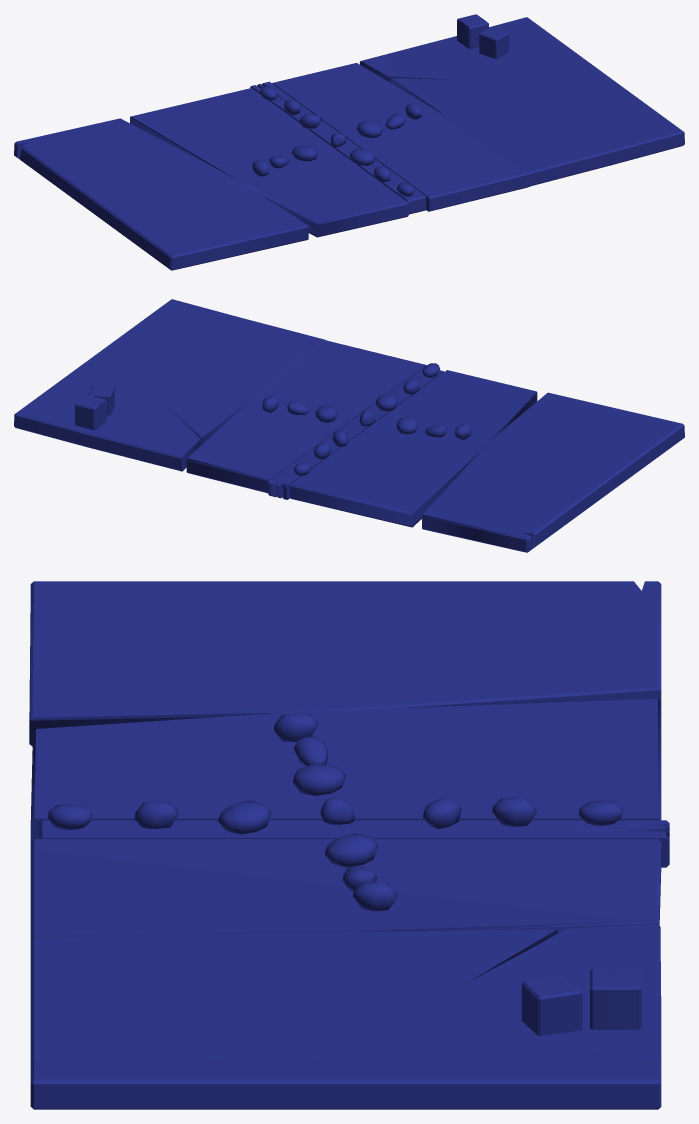
The model's file is gameboard.fbx.
3 views of the same model, one above another, from view 1: azimuth 30°, elevation 25°; view 2: azimuth 150°, elevation 25°; view 3: azimuth 270°, elevation 25° (orthographic). The views are drawn at different scales.
Parts seen in each view (by area): view 1: polySurface19; view 2: polySurface19; view 3: polySurface19.
Boxes of the visible parts, bbox=[...] form: polySurface19: bbox=[14, 14, 684, 270]; polySurface19: bbox=[14, 299, 684, 552]; polySurface19: bbox=[29, 581, 669, 1109].
Bounding box in the file's own units: 52.93 × 3.76 × 28.49.
